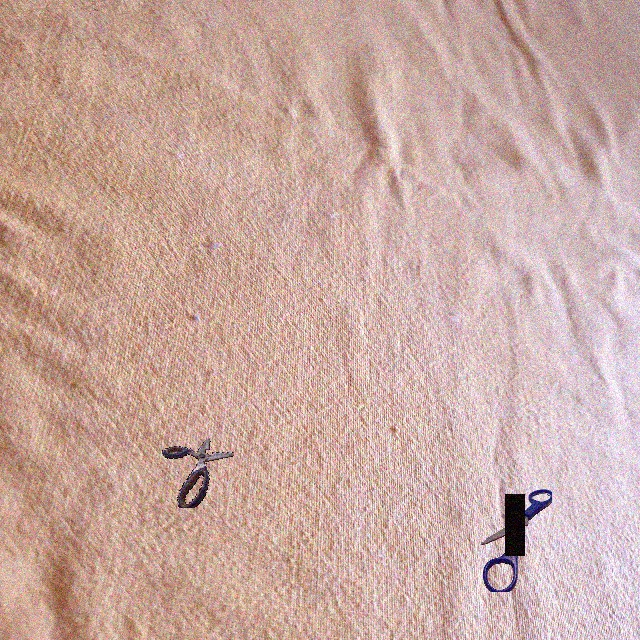scissors: (481, 489, 552, 592), (162, 437, 234, 508)
